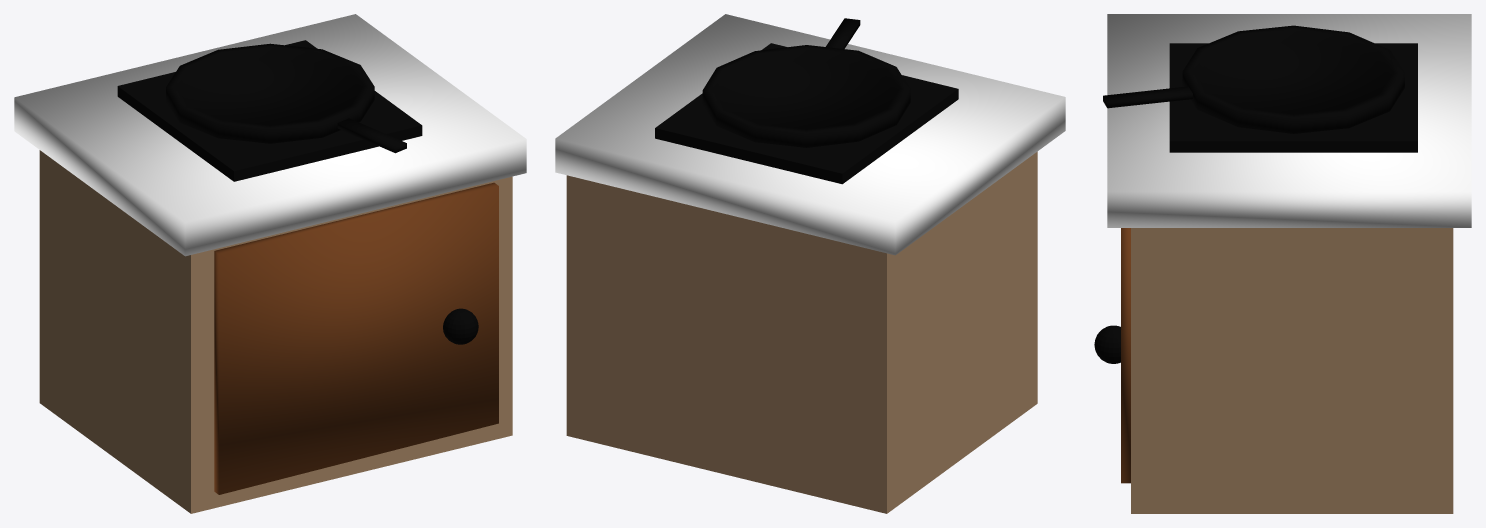
File: cube_left_pan.glb
The picture shows the model from 3 angles, left to right: view 1: azimuth 30°, elevation 25°; view 2: azimuth 150°, elevation 25°; view 3: azimuth 270°, elevation 25°; orthographic projection. The views are drawn at different scales.
Parts seen in each view (by area): view 1: Circle.010; view 2: Circle.010; view 3: Circle.010.
Part boxes in pixels (left/top/right/bottom): Circle.010: left=14, top=14, right=526, bottom=513; Circle.010: left=555, top=14, right=1065, bottom=513; Circle.010: left=1094, top=14, right=1471, bottom=513.
Size of the model in its own units: 2.61 by 2.44 by 2.34.
